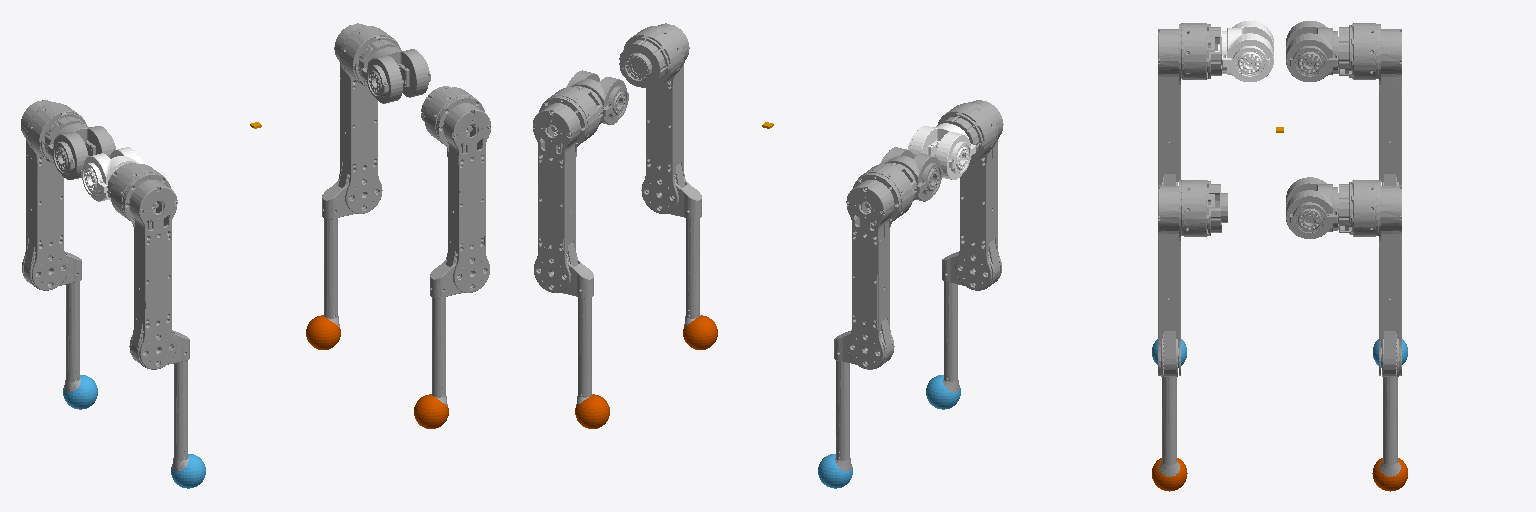
URDF robot description (robot):
<?xml version="1.0" encoding="utf-8"?>
<!-- This URDF was automatically created by SolidWorks to URDF Exporter! Originally created by [author] ([email redacted]) 
     Commit Version: 1.6.0-1-g15f4949  Build Version: 1.6.7594.29634
     For more information, please see http://wiki.ros.org/sw_urdf_exporter -->
<robot
  name="robot">
  <!-- Imu is fixed to the base link -->
  <joint name="unitree_imu_joint" type="fixed">
    <origin rpy="0. 0. 0." xyz="0. 0. 0."/>
    <parent link="base_link"/>
    <child link="unitree_imu"/>
  </joint>
  <!-- Imu link -->
  <link name="unitree_imu">
    <inertial>
      <mass value="0.01"/>
      <origin rpy="0 0 0" xyz="0 0 0"/>
      <inertia ixx="0.000001" ixy="0" ixz="0" iyy="0.000001" iyz="0" izz="0.000001"/>
    </inertial>
    <visual>
      <origin rpy="0 0 0" xyz="0 0 0"/>
      <geometry>
        <box size="0.015 0.015 0.004"/>
      </geometry>
    </visual>
    <material name="orange">
      <color rgba="255 108 10 255"/>
    </material>
  </link>
  <link
    name="base_link">
    <inertial>
      <origin
        xyz="0.0016334 0.0002693 -0.0071156"
        rpy="0 0 0" />
      <mass
        value="10.949" />
      <inertia
        ixx="0.048576"
        ixy="-6.6872E-05"
        ixz="-0.00070888"
        iyy="0.53312"
        iyz="-0.00029442"
        izz="0.55287" />
    </inertial>
    <visual>
      <origin
        xyz="0 0 0"
        rpy="0 0 0" />
      <geometry>
        <mesh
          filename="../meshes/base_link.STL" />
      </geometry>
      <material
        name="">
        <color
          rgba="0.69804 0.69804 0.69804 1" />
      </material>
    </visual>
    <collision>
      <origin
        xyz="0 0 0"
        rpy="0 0 0" />
      <geometry>
        <!-- <mesh
          filename="../meshes/base_link.STL" /> -->
          <box size="0.71200 0.21200 0.11200"/>
      </geometry>
    </collision>
  </link>
  <link
    name="difference_fr">
    <inertial>
      <origin
        xyz="2.76255611664222E-07 0.00678503293494918 -7.28949860936864E-05"
        rpy="0 0 0" />
      <mass
        value="1.83991949808533" />
      <inertia
        ixx="0.00159669309110301"
        ixy="2.40619784879463E-08"
        ixz="7.04421309599189E-10"
        iyy="0.00218039802623776"
        iyz="4.40635676564122E-06"
        izz="0.0024879385019285" />
    </inertial>
    <visual>
      <origin
        xyz="0 0 0"
        rpy="0 0 0" />
      <geometry>
        <mesh
          filename="../meshes/difference_fr.STL" />
      </geometry>
      <material
        name="">
        <color
          rgba="0.698039215686274 0.698039215686274 0.698039215686274 1" />
      </material>
    </visual>
    <!-- <collision>
      <origin
        xyz="0 0 0"
        rpy="0 0 0" />
      <geometry>
        <mesh
          filename="../meshes/difference_fr.STL" />
      </geometry>
    </collision> -->
  </link>
  <joint
    name="LF_HAA"
    type="revolute">
    <origin
      xyz="0.31 0.05 0"
      rpy="0 0 0" />
    <parent
      link="base_link" />
    <child
      link="difference_fr" />
    <axis
      xyz="1 0 0" />
    <dynamics damping="0.0" friction="0.0"/>
    <limit effort="35" lower="-0.7853981633974483" upper="0.7853981633974483" velocity="10"/>
  </joint>
  <link
    name="thigh_fr">
    <inertial>
      <origin
        xyz="7.80050075943617E-06 0.0767248973446957 -0.0853108309031699"
        rpy="0 0 0" />
      <mass
        value="1.84491872524247" />
      <inertia
        ixx="0.0200731328399129"
        ixy="-6.22649349293949E-06"
        ixz="-1.64601580051228E-05"
        iyy="0.0194374035044485"
        iyz="0.00239094298924952"
        izz="0.0025429424909611" />
    </inertial>
    <visual>
      <origin
        xyz="0 0 0"
        rpy="0 0 0" />
      <geometry>
        <mesh
          filename="../meshes/thigh_fr.STL" />
      </geometry>
      <material
        name="">
        <color
          rgba="0.698039215686274 0.698039215686274 0.698039215686274 1" />
      </material>
    </visual>
    <collision>
      <origin
        xyz="0 0.093 -0.135"
        rpy="0 0 0" />
      <geometry>
        <box size="0.05 0.04 0.28"/>
        <!-- <mesh
          filename="../meshes/thigh_fr.STL" /> -->
      </geometry>
    </collision>
  </link>
  <joint
    name="LF_HFE"
    type="revolute">
    <origin
      xyz="0 0.0415 0"
      rpy="0 0 0" />
    <parent
      link="difference_fr" />
    <child
      link="thigh_fr" />
    <axis
      xyz="0 1 0" />
    <dynamics damping="0.0" friction="0.0"/>
    <limit effort="35" lower="-1.57" upper="2.5" velocity="10"/>
  </joint>
  <link
    name="shank_fr">
    <inertial>
      <origin
        xyz="-0.0379180936704923 -1.00823098490022E-05 -0.105367936306375"
        rpy="0 0 0" />
      <mass
        value="0.46394589686281" />
      <inertia
        ixx="0.0062901661243756"
        ixy="-1.45795386191276E-07"
        ixz="-0.00134757706117442"
        iyy="0.00676703648405088"
        iyz="-7.33331301121544E-07"
        izz="0.000568017818716471" />
    </inertial>
    <visual>
      <origin
        xyz="0 0 0"
        rpy="0 0 0" />
      <geometry>
        <mesh
          filename="../meshes/shank_fr.STL" />
      </geometry>
      <material
        name="">
        <color
          rgba="0.698039215686274 0.698039215686274 0.698039215686274 1" />
      </material>
    </visual>
    <collision>
      <origin
        xyz="-0.055 0 -0.12"
        rpy="0 0 0" />
      <geometry>
        <cylinder radius="0.016" length="0.25"/>
        <!-- <mesh
          filename="../meshes/shank_fr.STL" /> -->
      </geometry>
    </collision>
  </link>
  <joint
    name="LF_KFE"
    type="revolute">
    <origin
      xyz="0 0.0931000000000018 -0.270122814075178"
      rpy="0 0 0" />
    <parent
      link="thigh_fr" />
    <child
      link="shank_fr" />
    <axis
      xyz="0 1 0" />
    <dynamics damping="0.0" friction="0.0"/>
    <limit effort="45" lower="-3.141592653589793" upper="1.17453292519943295" velocity="10"/>
  </joint>
  <link name="LF_FOOT">
    <visual>
      <origin rpy="0 0 0" xyz="0 0 0"/>
      <geometry>
        <sphere radius="0.03"/>
      </geometry>
      <!-- <material name="orange"/> -->
    </visual>
    <collision>
      <origin rpy="0 0 0" xyz="0 0 0"/>
      <geometry>
        <sphere radius="0.03"/>
      </geometry>
    </collision>
    <inertial>
      <mass value="0.06"/>
      <inertia ixx="9.600000000000001e-04" ixy="0.0" ixz="0.0" iyy="9.600000000000001e-04" iyz="0.0" izz="9.600000000000001e-03"/>
    </inertial>
  </link>
  <joint name="LF_FOOT_fixed_joint" type="fixed" dont_collapse="true">
    <origin rpy="0 0 0" xyz="-0.07 0 -0.252"/>
    <parent link="shank_fr"/>
    <child link="LF_FOOT"/>
  </joint>
  
  <link
    name="difference_br">
    <inertial>
      <origin
        xyz="2.76255611664222E-07 0.0067850329349492 -7.28949860947287E-05"
        rpy="0 0 0" />
      <mass
        value="1.83991949808533" />
      <inertia
        ixx="0.00159669309110302"
        ixy="2.4061978488582E-08"
        ixz="7.04421309293951E-10"
        iyy="0.00218039802623776"
        iyz="4.40635676564146E-06"
        izz="0.0024879385019285" />
    </inertial>
    <visual>
      <origin
        xyz="0 0 0"
        rpy="0 0 0" />
      <geometry>
        <mesh
          filename="../meshes/difference_br.STL" />
      </geometry>
      <material
        name="">
        <color
          rgba="0.698039215686274 0.698039215686274 0.698039215686274 1" />
      </material>
    </visual>
    <!-- <collision>
      <origin
        xyz="0 0 0"
        rpy="0 0 0" />
      <geometry>
        <mesh
          filename="../meshes/difference_br.STL" />
      </geometry>
    </collision> -->
  </link>
  <joint
    name="LH_HAA"
    type="revolute">
    <origin
      xyz="-0.31 0.05 0"
      rpy="0 0 0" />
    <parent
      link="base_link" />
    <child
      link="difference_br" />
    <axis
      xyz="1 0 0" />
    <dynamics damping="0.0" friction="0.0"/>
    <limit effort="35" lower="-0.7853981633974483" upper="0.7853981633974483" velocity="10"/>
  </joint>
  <link
    name="thigh_br">
    <inertial>
      <origin
        xyz="7.80050034682178E-06 0.0767248973447084 -0.0853108309031707"
        rpy="0 0 0" />
      <mass
        value="1.84491872524246" />
      <inertia
        ixx="0.0200731328399129"
        ixy="-6.22649349294517E-06"
        ixz="-1.64601580051122E-05"
        iyy="0.0194374035044485"
        iyz="0.00239094298924952"
        izz="0.00254294249096109" />
    </inertial>
    <visual>
      <origin
        xyz="0 0 0"
        rpy="0 0 0" />
      <geometry>
        <mesh
          filename="../meshes/thigh_br.STL" />
      </geometry>
      <material
        name="">
        <color
          rgba="0.698039215686274 0.698039215686274 0.698039215686274 1" />
      </material>
    </visual>
    <collision>
      <origin
        xyz="0 0.093 -0.135"
        rpy="0 0 0" />
      <geometry>
        <box size="0.05 0.04 0.28"/>
        <!-- <mesh
          filename="../meshes/thigh_br.STL" /> -->
      </geometry>
    </collision>
  </link>
  <joint
    name="LH_HFE"
    type="revolute">
    <origin
      xyz="0 0.0414999999974441 0"
      rpy="0 0 0" />
    <parent
      link="difference_br" />
    <child
      link="thigh_br" />
    <axis
      xyz="0 1 0" />
    <dynamics damping="0.0" friction="0.0"/>
    <limit effort="35" lower="-2.5" upper="1.57" velocity="10"/>
  </joint>
  <link
    name="shank_br">
    <inertial>
      <origin
        xyz="0.0379180936765431 1.00823142355488E-05 -0.105367936359481"
        rpy="0 0 0" />
      <mass
        value="0.463945897140413" />
      <inertia
        ixx="0.00629016612668043"
        ixy="-1.45795411298519E-07"
        ixz="0.00134757706144971"
        iyy="0.00676703648637542"
        iyz="7.33331493810339E-07"
        izz="0.000568017818767203" />
    </inertial>
    <visual>
      <origin
        xyz="0 0 0"
        rpy="0 0 0" />
      <geometry>
        <mesh
          filename="../meshes/shank_br.STL" />
      </geometry>
      <material
        name="">
        <color
          rgba="0.698039215686274 0.698039215686274 0.698039215686274 1" />
      </material>
    </visual>
    <collision>
      <origin
        xyz="0.055 0 -0.12"
        rpy="0 0 0" />
      <geometry>
        <cylinder radius="0.016" length="0.25"/>
        <!-- <mesh
          filename="../meshes/shank_br.STL" /> -->
      </geometry>
    </collision>
  </link>
  <joint
    name="LH_KFE"
    type="revolute">
    <origin
      xyz="0 0.0931000000000196 -0.270122814075249"
      rpy="0 0 0" />
    <parent
      link="thigh_br" />
    <child
      link="shank_br" />
    <axis
      xyz="0 1 0" />
    <dynamics damping="0.0" friction="0.0"/>
    <limit effort="45" lower="-1.17453292519943295" upper="3.141592653589793" velocity="10"/>
  </joint>
  <link name="LH_FOOT">
    <visual>
      <origin rpy="0 0 0" xyz="0 0 0"/>
      <geometry>
        <sphere radius="0.03"/>
      </geometry>
      <!-- <material name="orange"/> -->
    </visual>
    <collision>
      <origin rpy="0 0 0" xyz="0 0 0"/>
      <geometry>
        <sphere radius="0.03"/>
      </geometry>
    </collision>
    <inertial>
      <mass value="0.06"/>
      <inertia ixx="9.600000000000001e-04" ixy="0.0" ixz="0.0" iyy="9.600000000000001e-04" iyz="0.0" izz="9.600000000000001e-03"/>
    </inertial>
  </link>
  <joint name="LH_FOOT_fixed_joint" type="fixed" dont_collapse="true">
    <origin rpy="0 0 0" xyz="0.07 0 -0.252"/>
    <parent link="shank_br"/>
    <child link="LH_FOOT"/>
  </joint>
  
  <link
    name="difference_fl">
    <inertial>
      <origin
        xyz="-2.74870503469415E-07 -0.00678503161175874 -7.28954687522767E-05"
        rpy="0 0 0" />
      <mass
        value="1.83991942523528" />
      <inertia
        ixx="0.00159669300620188"
        ixy="2.40834466841156E-08"
        ixz="-6.36563017347744E-10"
        iyy="0.00218039794501133"
        iyz="-4.40637299692243E-06"
        izz="0.00248793843492296" />
    </inertial>
    <visual>
      <origin
        xyz="0 0 0"
        rpy="0 0 0" />
      <geometry>
        <mesh
          filename="../meshes/difference_fl.STL" />
      </geometry>
      <material
        name="">
        <color
          rgba="0.698039215686274 0.698039215686274 0.698039215686274 1" />
      </material>
    </visual>
    <!-- <collision>
      <origin
        xyz="0 0 0"
        rpy="0 0 0" />
      <geometry>
        <mesh
          filename="../meshes/difference_fl.STL" />
      </geometry>
    </collision> -->
  </link>
  <joint
    name="RF_HAA"
    type="revolute">
    <origin
      xyz="0.31 -0.05 0"
      rpy="0 0 0" />
    <parent
      link="base_link" />
    <child
      link="difference_fl" />
    <axis
      xyz="1 0 0" />
    <dynamics damping="0.0" friction="0.0"/>
    <limit effort="35" lower="-0.7853981633974483" upper="0.7853981633974483" velocity="10"/>
  </joint>
  <link
    name="thigh_fl">
    <inertial>
      <origin
        xyz="-7.79361510067078E-06 -0.0767249033075051 -0.0853108141844979"
        rpy="0 0 0" />
      <mass
        value="1.84491923543637" />
      <inertia
        ixx="0.0200731337773401"
        ixy="-6.22617105712194E-06"
        ixz="1.64593347132117E-05"
        iyy="0.0194374045436634"
        iyz="-0.00239094217884282"
        izz="0.00254294323646131" />
    </inertial>
    <visual>
      <origin
        xyz="0 0 0"
        rpy="0 0 0" />
      <geometry>
        <mesh
          filename="../meshes/thigh_fl.STL" />
      </geometry>
      <material
        name="">
        <color
          rgba="0.698039215686274 0.698039215686274 0.698039215686274 1" />
      </material>
    </visual>
    <collision>
      <origin
        xyz="0 -0.093 -0.135"
        rpy="0 0 0" />
      <geometry>
        <box size="0.05 0.04 0.28"/>
        <!-- <mesh
          filename="../meshes/thigh_fl.STL" /> -->
      </geometry>
    </collision>
  </link>
  <joint
    name="RF_HFE"
    type="revolute">
    <origin
      xyz="0 -0.0415000000000005 0"
      rpy="0 0 0" />
    <parent
      link="difference_fl" />
    <child
      link="thigh_fl" />
        <axis
      xyz="0 1 0" />
    <dynamics damping="0.0" friction="0.0"/>
    <limit effort="35" lower="-1.57" upper="2.5" velocity="10"/>
  </joint>
  <link
    name="shank_fl">
    <inertial>
      <origin
        xyz="-0.0379180936720089 -1.00823109106252E-05 -0.105367936319631"
        rpy="0 0 0" />
      <mass
        value="0.463945896932349" />
      <inertia
        ixx="0.00629016612495341"
        ixy="-1.45795391992759E-07"
        ixz="-0.0013475770612434"
        iyy="0.00676703648463362"
        iyz="-7.33331348046914E-07"
        izz="0.00056801781872918" />
    </inertial>
    <visual>
      <origin
        xyz="0 0 0"
        rpy="0 0 0" />
      <geometry>
        <mesh
          filename="../meshes/shank_fl.STL" />
      </geometry>
      <material
        name="">
        <color
          rgba="0.698039215686274 0.698039215686274 0.698039215686274 1" />
      </material>
    </visual>
    <collision>
      <origin
        xyz="-0.055 0 -0.12"
        rpy="0 0 0" />
      <geometry>
        <cylinder radius="0.016" length="0.25"/>
        <!-- <mesh
          filename="../meshes/shank_fl.STL" /> -->
      </geometry>
    </collision>
  </link>
  <joint
    name="RF_KFE"
    type="revolute">
    <origin
      xyz="0 -0.0931000000000001 -0.270122814075249"
      rpy="0 0 0" />
    <parent
      link="thigh_fl" />
    <child
      link="shank_fl" />
    <axis
      xyz="0 1 0" />
    <dynamics damping="0.0" friction="0.0"/>
    <limit effort="45" lower="-3.141592653589793" upper="1.17453292519943295" velocity="10"/>
  </joint>
  <link name="RF_FOOT">
    <visual>
      <origin rpy="0 0 0" xyz="0 0 0"/>
      <geometry>
        <sphere radius="0.03"/>
      </geometry>
      <!-- <material name="orange"/> -->
    </visual>
    <collision>
      <origin rpy="0 0 0" xyz="0 0 0"/>
      <geometry>
        <sphere radius="0.03"/>
      </geometry>
    </collision>
    <inertial>
      <mass value="0.06"/>
      <inertia ixx="9.600000000000001e-04" ixy="0.0" ixz="0.0" iyy="9.600000000000001e-04" iyz="0.0" izz="9.600000000000001e-03"/>
    </inertial>
  </link>
  <joint name="RF_FOOT_fixed_joint" type="fixed" dont_collapse="true">
    <origin rpy="0 0 0" xyz="-0.07 0 -0.252"/>
    <parent link="shank_fl"/>
    <child link="RF_FOOT"/>
  </joint>
  
  <link
    name="difference_bl">
    <inertial>
      <origin
        xyz="2.76255611664222E-07 0.0067850329349492 -7.28949860947287E-05"
        rpy="0 0 0" />
      <mass
        value="1.83991949808533" />
      <inertia
        ixx="0.00159669309110302"
        ixy="2.4061978488582E-08"
        ixz="7.04421309293951E-10"
        iyy="0.00218039802623776"
        iyz="4.40635676564146E-06"
        izz="0.0024879385019285" />
    </inertial>
    <visual>
      <origin
        xyz="0 0 0"
        rpy="0 0 0" />
      <geometry>
        <mesh
          filename="../meshes/difference_bl.STL" />
      </geometry>
      <material
        name="">
        <color
          rgba="1 1 1 1" />
      </material>
    </visual>
    <!-- <collision>
      <origin
        xyz="0 0 0"
        rpy="0 0 0" />
      <geometry>
        <mesh
          filename="../meshes/difference_bl.STL" />
      </geometry>
    </collision> -->
  </link>
  <joint
    name="RH_HAA"
    type="revolute">
    <origin
      xyz="-0.31 -0.05 0"
      rpy="0 0 0" />
    <parent
      link="base_link" />
    <child
      link="difference_bl" />
    <axis
      xyz="1 0 0" />
    <dynamics damping="0.0" friction="0.0"/>
    <limit effort="35" lower="-0.7853981633974483" upper="0.7853981633974483" velocity="10"/>
  </joint>
  <link
    name="thigh_bl">
    <inertial>
      <origin
        xyz="-7.79361510050425E-06 -0.0767249033075054 -0.0853108141844979"
        rpy="0 0 0" />
      <mass
        value="1.84491923543638" />
      <inertia
        ixx="0.02007313377734"
        ixy="-6.22617105712692E-06"
        ixz="1.64593347131925E-05"
        iyy="0.0194374045436634"
        iyz="-0.00239094217884283"
        izz="0.00254294323646131" />
    </inertial>
    <visual>
      <origin
        xyz="0 0 0"
        rpy="0 0 0" />
      <geometry>
        <mesh
          filename="../meshes/thigh_bl.STL" />
      </geometry>
      <material
        name="">
        <color
          rgba="0.698039215686274 0.698039215686274 0.698039215686274 1" />
      </material>
    </visual>
    <collision>
      <origin
        xyz="0 -0.093 -0.135"
        rpy="0 0 0" />
      <geometry>
        <box size="0.05 0.04 0.28"/>
        <!-- <mesh
          filename="../meshes/thigh_bl.STL" /> -->
      </geometry>
    </collision>
  </link>
  <joint
    name="RH_HFE"
    type="revolute">
    <origin
      xyz="0 -0.041500000002547 0"
      rpy="0 0 0" />
    <parent
      link="difference_bl" />
    <child
      link="thigh_bl" />
    <axis
      xyz="0 1 0" />
    <dynamics damping="0.0" friction="0.0"/>
    <limit effort="35" lower="-2.5" upper="1.57" velocity="10"/>
  </joint>
  <link
    name="shank_bl">
    <inertial>
      <origin
        xyz="0.0379180936720101 1.00823110678883E-05 -0.105367936319638"
        rpy="0 0 0" />
      <mass
        value="0.46394589693239" />
      <inertia
        ixx="0.00629016612495369"
        ixy="-1.45795393960972E-07"
        ixz="0.00134757706124343"
        iyy="0.00676703648463389"
        iyz="7.3333135362383E-07"
        izz="0.000568017818729184" />
    </inertial>
    <visual>
      <origin
        xyz="0 0 0"
        rpy="0 0 0" />
      <geometry>
        <mesh
          filename="../meshes/shank_bl.STL" />
      </geometry>
      <material
        name="">
        <color
          rgba="0.698039215686274 0.698039215686274 0.698039215686274 1" />
      </material>
    </visual>
    <collision>
      <origin
        xyz="0.055 0 -0.12"
        rpy="0 0 0" />
      <geometry>
        <cylinder radius="0.016" length="0.25"/>
        <!-- <mesh
          filename="../meshes/shank_bl.STL" /> -->
      </geometry>
    </collision>
  </link>
  <joint
    name="RH_KFE"
    type="revolute">
    <origin
      xyz="0 -0.0931000000000001 -0.270122814075249"
      rpy="0 0 0" />
    <parent
      link="thigh_bl" />
    <child
      link="shank_bl" />
    <axis
      xyz="0 1 0" />
    <dynamics damping="0.0" friction="0.0"/>
    <limit effort="45" lower="-1.17453292519943295" upper="3.141592653589793" velocity="10"/>
  </joint>
  <link name="RH_FOOT">
    <visual>
      <origin rpy="0 0 0" xyz="0 0 0"/>
      <geometry>
        <sphere radius="0.03"/>
      </geometry>
      <!-- <material name="orange"/> -->
    </visual>
    <collision>
      <origin rpy="0 0 0" xyz="0 0 0"/>
      <geometry>
        <sphere radius="0.03"/>
      </geometry>
    </collision>
    <inertial>
      <mass value="0.06"/>
      <inertia ixx="9.600000000000001e-04" ixy="0.0" ixz="0.0" iyy="9.600000000000001e-04" iyz="0.0" izz="9.600000000000001e-03"/>
    </inertial>
  </link>
  <joint name="RH_FOOT_fixed_joint" type="fixed" dont_collapse="true">
    <origin rpy="0 0 0" xyz="0.07 0 -0.252"/>
    <parent link="shank_bl"/>
    <child link="RH_FOOT"/>
  </joint>
  
</robot>

--- What the picture shows (computed from the rendered views, not written in the file) ---
The picture shows the robot from 3 angles, left to right: view 1: azimuth 30°, elevation 25°; view 2: azimuth 150°, elevation 25°; view 3: azimuth 270°, elevation 25°; orthographic projection.
Model robot with 18 links and 17 joints (12 revolute, 5 fixed), rooted at base_link, posed all joints at 0.
Visible links, largest first — view 1: thigh_bl, thigh_fl, thigh_br, thigh_fr, difference_fr, difference_br, shank_fr, shank_fl, shank_bl, shank_br, difference_bl, RF_FOOT (+3 smaller); view 2: thigh_br, thigh_fr, thigh_fl, thigh_bl, difference_bl, shank_fl, shank_fr, shank_br, shank_bl, difference_br, difference_fr, RF_FOOT (+3 smaller); view 3: thigh_fl, thigh_fr, thigh_br, thigh_bl, difference_fr, difference_bl, difference_br, shank_fl, shank_fr, LF_FOOT, RF_FOOT.
Boxes of the visible links, <box> form: thigh_bl: <box>107,163,177,369</box>; thigh_fl: <box>421,86,490,292</box>; thigh_br: <box>21,100,86,290</box>; thigh_fr: <box>334,23,400,213</box>; difference_fr: <box>361,47,430,103</box>; difference_br: <box>48,123,115,179</box>; shank_fr: <box>322,175,377,326</box>; shank_fl: <box>430,253,485,405</box>; shank_bl: <box>130,329,189,471</box>; shank_br: <box>22,252,81,392</box>; difference_bl: <box>81,147,143,201</box>; RF_FOOT: <box>414,394,448,428</box>; thigh_br: <box>846,163,916,369</box>; thigh_fr: <box>533,86,602,292</box>; thigh_fl: <box>619,23,689,213</box>; thigh_bl: <box>937,100,1003,290</box>; difference_bl: <box>908,123,975,179</box>; shank_fl: <box>646,175,701,326</box>; shank_fr: <box>538,253,593,405</box>; shank_br: <box>834,329,893,471</box>; shank_bl: <box>942,252,1001,392</box>; difference_br: <box>880,147,942,201</box>; difference_fr: <box>566,70,628,124</box>; RF_FOOT: <box>683,315,717,349</box>; thigh_fl: <box>1158,180,1227,376</box>; thigh_fr: <box>1338,180,1401,376</box>; thigh_br: <box>1338,23,1401,185</box>; thigh_bl: <box>1158,23,1221,185</box>; difference_fr: <box>1286,177,1338,238</box>; difference_bl: <box>1218,21,1273,81</box>; difference_br: <box>1286,21,1338,81</box>; shank_fl: <box>1159,334,1179,476</box>; shank_fr: <box>1380,334,1400,476</box>; LF_FOOT: <box>1372,458,1407,491</box>; RF_FOOT: <box>1152,458,1187,491</box>.
Size in the robot's own frame: 0.716 by 0.4292 by 0.6 metres.
11 mesh visuals loaded from 13 distinct referenced files (11 binary STL); not drawn: 2 (reference not matched to a file when rendering).